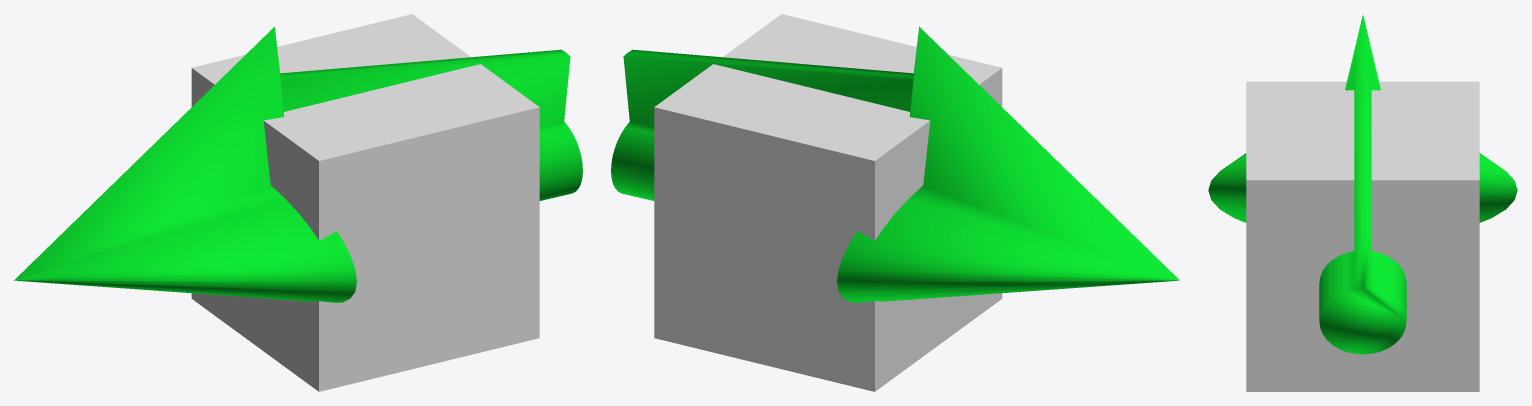
File: debug_arrow.fbx
3 renders of one model, left to right at view 1: azimuth 30°, elevation 25°; view 2: azimuth 150°, elevation 25°; view 3: azimuth 270°, elevation 25°, orthographic. The views are drawn at different scales.
Parts seen in each view (by area): view 1: Cube, DebugArrow; view 2: Cube, DebugArrow; view 3: Cube, DebugArrow.
Boxes of the visible parts, left/top/right/bottom form: Cube: left=191, top=14, right=539, bottom=391; DebugArrow: left=14, top=26, right=582, bottom=302; Cube: left=654, top=14, right=1002, bottom=391; DebugArrow: left=611, top=26, right=1179, bottom=302; Cube: left=1246, top=81, right=1479, bottom=391; DebugArrow: left=1208, top=15, right=1517, bottom=354.
Size of the model in its own units: 272 by 500 by 265.
